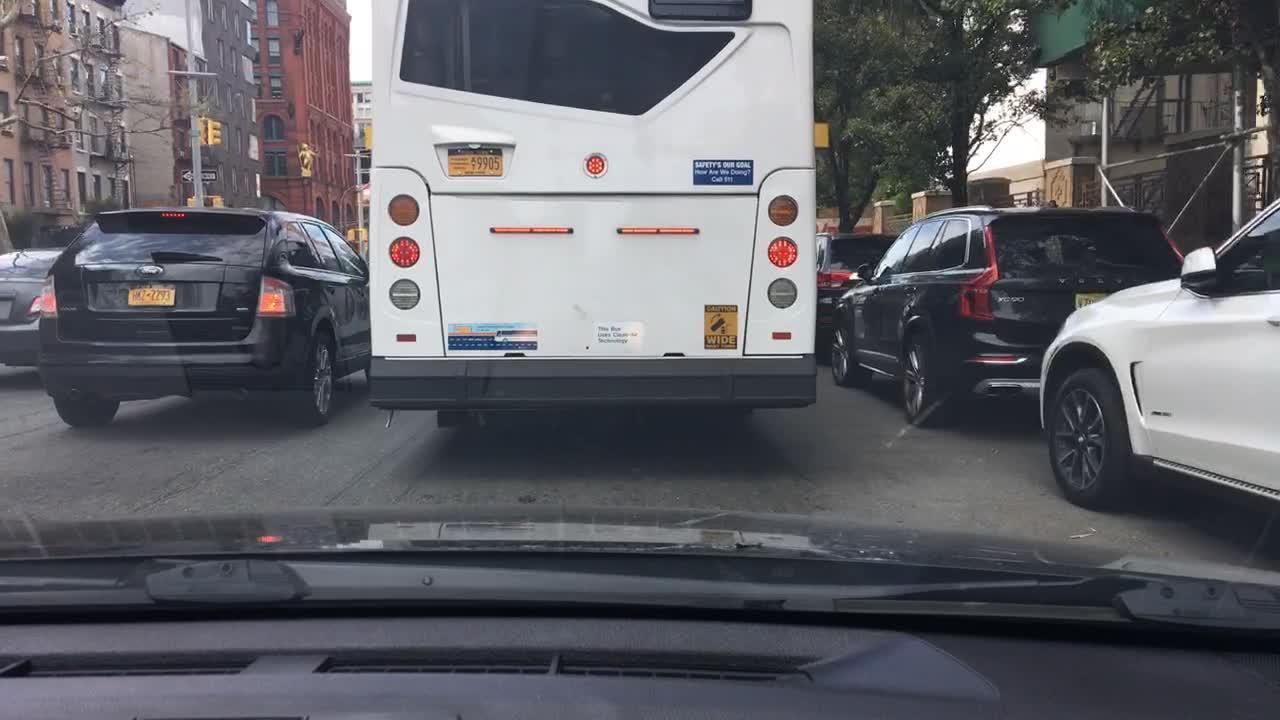ford: (132, 261, 166, 282)
